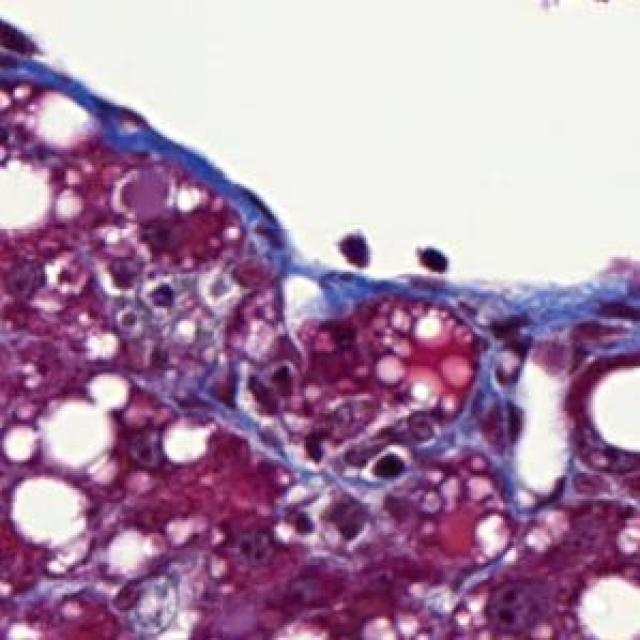inflammation: (227, 360, 306, 426), (86, 247, 156, 310), (362, 439, 415, 492)
